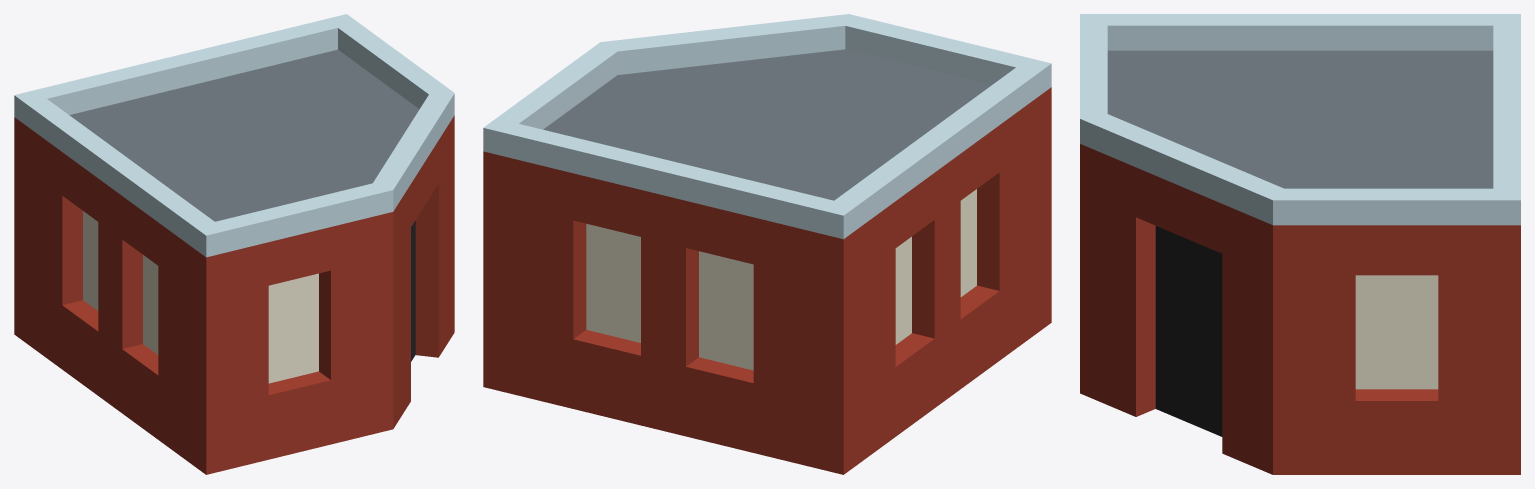
Rendered from Building_10 (Red).obj.
3 renders of one model, left to right at view 1: azimuth 30°, elevation 25°; view 2: azimuth 150°, elevation 25°; view 3: azimuth 270°, elevation 25°, orthographic. The views are drawn at different scales.
Parts seen in each view (by area): view 1: Building_10_(Red); view 2: Building_10_(Red); view 3: Building_10_(Red).
Part boxes in pixels (box(x1,y1,x2,y2)): Building_10_(Red): box(14, 14, 454, 474); Building_10_(Red): box(483, 14, 1051, 474); Building_10_(Red): box(1080, 14, 1520, 474).
Bounding box in the file's own units: 1.6 × 1.1 × 1.6.
